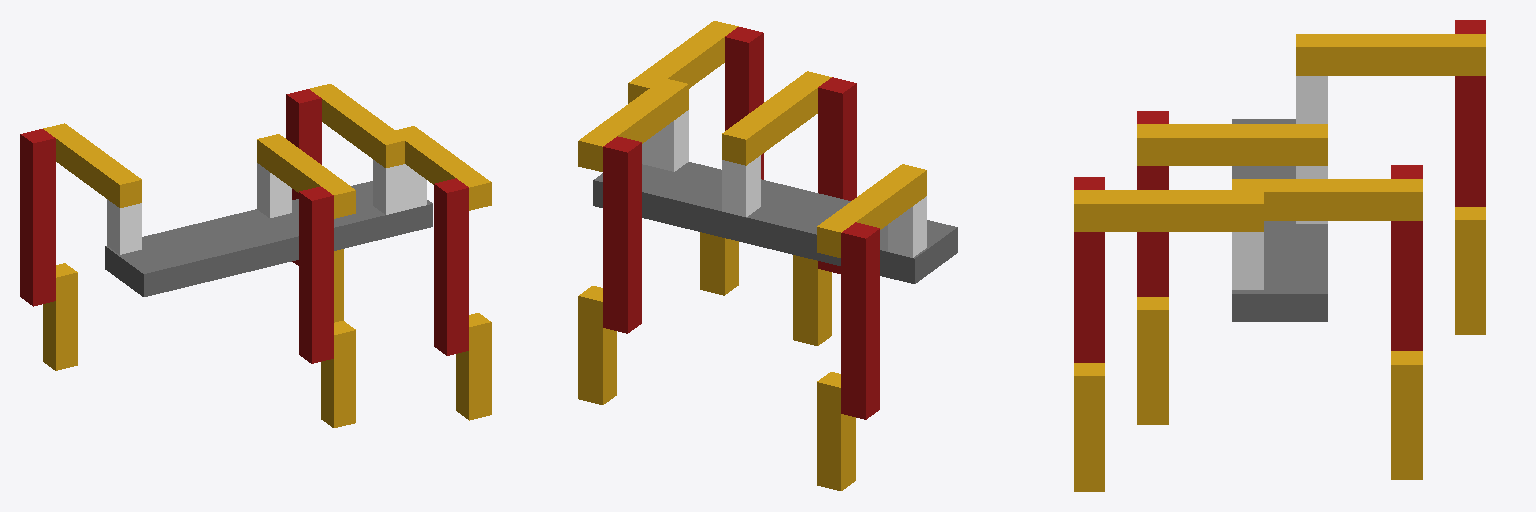
URDF robot description (v0):
<?xml version="1.0" encoding="utf-8"?>
<!-- =================================================================================== -->
<!-- |    This document was autogenerated by xacro from ../robots/v0variants/xacros/v0_4l_26.xacro | -->
<!-- |    EDITING THIS FILE BY HAND IS NOT RECOMMENDED                                 | -->
<!-- =================================================================================== -->
<robot name="v0">
  <material name="grey">
    <color rgba="0.5 0.5 0.5 1"/>
  </material>
  <material name="white">
    <color rgba="1 1 1 1"/>
  </material>
  <material name="yellow">
    <color rgba="0.91 0.7 0.14 1"/>
  </material>
  <material name="red">
    <color rgba="0.71 0.14 0.14 1"/>
  </material>
  <link name="body">
    <visual>
      <geometry>
        <box size="1.3 0.3 0.1"/>
      </geometry>
      <material name="grey"/>
      <origin rpy="0 0 0" xyz="0 0 0.7"/>
    </visual>
    <collision>
      <geometry>
        <box size="1.3 0.3 0.1"/>
      </geometry>
      <origin rpy="0 0 0" xyz="0 0 0.7"/>
    </collision>
    <inertial>
      <mass value="99.84"/>
      <inertia ixx="0.832" ixy="0.0" ixz="0.0" iyy="14.144" iyz="0.0" izz="14.8096"/>
    </inertial>
  </link>
  <link name="l1_segment_1">
    <visual>
      <geometry>
        <box size="0.1 0.1 0.2"/>
      </geometry>
      <material name="white"/>
      <origin rpy="0 0 0" xyz="0 0 0.1"/>
    </visual>
    <collision>
      <geometry>
        <box size="0.1 0.1 0.2"/>
      </geometry>
      <origin rpy="0 0 0" xyz="0 0 0.1"/>
    </collision>
    <inertial>
      <mass value="5.12"/>
      <inertia ixx="0.0213333333333" ixy="0.0" ixz="0.0" iyy="0.0213333333333" iyz="0.0" izz="0.00853333333333"/>
    </inertial>
  </link>
  <joint name="l1_base_to_joint_1" type="fixed">
    <parent link="body"/>
    <child link="l1_segment_1"/>
    <origin rpy="0 0 0" xyz="0.48739333523120976 -0.1 0.75"/>
  </joint>
  <link name="l1_segment_2_HIP">
    <visual>
      <geometry>
        <box size="0.1 0.6 0.1"/>
      </geometry>
      <material name="yellow"/>
      <origin rpy="0 0 0" xyz="0 0.25 0"/>
    </visual>
    <collision>
      <geometry>
        <box size="0.1 0.6 0.1"/>
      </geometry>
      <origin rpy="0 0 0" xyz="0 0.25 0"/>
    </collision>
    <inertial>
      <mass value="15.36"/>
      <inertia ixx="0.4736" ixy="0.0" ixz="0.0" iyy="0.0256" iyz="0.0" izz="0.4736"/>
    </inertial>
  </link>
  <joint name="l1_joint_1_to_2" type="revolute">
    <parent link="l1_segment_1"/>
    <child link="l1_segment_2_HIP"/>
    <origin rpy="0 0 0" xyz="0 0 0.25"/>
    <axis xyz="0.0 0.0 1.0"/>
    <limit effort="2048" lower="-1.2" upper="1.2" velocity="20"/>
  </joint>
  <link name="l1_segment_3_THIGH">
    <visual>
      <geometry>
        <box size="0.1 0.1 0.7"/>
      </geometry>
      <material name="red"/>
      <origin rpy="0 0 0" xyz="0 0 -0.3"/>
    </visual>
    <collision>
      <geometry>
        <box size="0.1 0.1 0.7"/>
      </geometry>
      <origin rpy="0 0 0" xyz="0 0 -0.3"/>
    </collision>
    <inertial>
      <mass value="17.92"/>
      <inertia ixx="0.746666666667" ixy="0.0" ixz="0.0" iyy="0.746666666667" iyz="0.0" izz="0.0298666666667"/>
    </inertial>
  </link>
  <joint name="l1_joint_2_to_3" type="revolute">
    <parent link="l1_segment_2_HIP"/>
    <child link="l1_segment_3_THIGH"/>
    <origin rpy="0 0 0" xyz="-0.1 0.5 0"/>
    <axis xyz="1.0 0.0 0.0"/>
    <limit effort="2048" lower="-0.2" upper="0.75" velocity="20"/>
  </joint>
  <link name="l1_segment_4_FOOT">
    <visual>
      <geometry>
        <box size="0.1 0.1 0.4"/>
      </geometry>
      <material name="yellow"/>
      <origin rpy="0 0 0" xyz="0 0 -0.2"/>
    </visual>
    <collision>
      <geometry>
        <box size="0.1 0.1 0.4"/>
      </geometry>
      <origin rpy="0 0 0" xyz="0 0 -0.2"/>
    </collision>
    <inertial>
      <mass value="10.24"/>
      <inertia ixx="0.145066666667" ixy="0.0" ixz="0.0" iyy="0.145066666667" iyz="0.0" izz="0.0170666666667"/>
    </inertial>
  </link>
  <joint name="l1_joint_3_to_4_FOOT" type="revolute">
    <parent link="l1_segment_3_THIGH"/>
    <child link="l1_segment_4_FOOT"/>
    <origin rpy="0 0 0" xyz="0.1 0 -0.55"/>
    <axis xyz="1.0 0.0 0.0"/>
    <limit effort="2048" lower="-0.2" upper="0.5" velocity="20"/>
  </joint>
  <link name="r2_segment_1">
    <visual>
      <geometry>
        <box size="0.1 0.1 0.2"/>
      </geometry>
      <material name="white"/>
      <origin rpy="0 0 0" xyz="0 0 0.1"/>
    </visual>
    <collision>
      <geometry>
        <box size="0.1 0.1 0.2"/>
      </geometry>
      <origin rpy="0 0 0" xyz="0 0 0.1"/>
    </collision>
    <inertial>
      <mass value="5.12"/>
      <inertia ixx="0.0213333333333" ixy="0.0" ixz="0.0" iyy="0.0213333333333" iyz="0.0" izz="0.00853333333333"/>
    </inertial>
  </link>
  <joint name="r2_base_to_joint_1" type="fixed">
    <parent link="body"/>
    <child link="r2_segment_1"/>
    <origin rpy="0 0 0" xyz="0.08087877123834808 0.1 0.75"/>
  </joint>
  <link name="r2_segment_2_HIP">
    <visual>
      <geometry>
        <box size="0.1 0.6 0.1"/>
      </geometry>
      <material name="yellow"/>
      <origin rpy="0 0 0" xyz="0 -0.25 0"/>
    </visual>
    <collision>
      <geometry>
        <box size="0.1 0.6 0.1"/>
      </geometry>
      <origin rpy="0 0 0" xyz="0 -0.25 0"/>
    </collision>
    <inertial>
      <mass value="15.36"/>
      <inertia ixx="0.4736" ixy="0.0" ixz="0.0" iyy="0.0256" iyz="0.0" izz="0.4736"/>
    </inertial>
  </link>
  <joint name="r2_joint_1_to_2" type="revolute">
    <parent link="r2_segment_1"/>
    <child link="r2_segment_2_HIP"/>
    <origin rpy="0 0 0" xyz="0 0 0.25"/>
    <axis xyz="0.0 0.0 1.0"/>
    <limit effort="2048" lower="-1.2" upper="1.2" velocity="20"/>
  </joint>
  <link name="r2_segment_3_THIGH">
    <visual>
      <geometry>
        <box size="0.1 0.1 0.7"/>
      </geometry>
      <material name="red"/>
      <origin rpy="0 0 0" xyz="0 0 -0.3"/>
    </visual>
    <collision>
      <geometry>
        <box size="0.1 0.1 0.7"/>
      </geometry>
      <origin rpy="0 0 0" xyz="0 0 -0.3"/>
    </collision>
    <inertial>
      <mass value="17.92"/>
      <inertia ixx="0.746666666667" ixy="0.0" ixz="0.0" iyy="0.746666666667" iyz="0.0" izz="0.0298666666667"/>
    </inertial>
  </link>
  <joint name="r2_joint_2_to_3" type="revolute">
    <parent link="r2_segment_2_HIP"/>
    <child link="r2_segment_3_THIGH"/>
    <origin rpy="0 0 0" xyz="-0.1 -0.5 0"/>
    <axis xyz="1.0 0.0 0.0"/>
    <limit effort="2048" lower="-0.75" upper="0.2" velocity="20"/>
  </joint>
  <link name="r2_segment_4_FOOT">
    <visual>
      <geometry>
        <box size="0.1 0.1 0.4"/>
      </geometry>
      <material name="yellow"/>
      <origin rpy="0 0 0" xyz="0 0 -0.2"/>
    </visual>
    <collision>
      <geometry>
        <box size="0.1 0.1 0.4"/>
      </geometry>
      <origin rpy="0 0 0" xyz="0 0 -0.2"/>
    </collision>
    <inertial>
      <mass value="10.24"/>
      <inertia ixx="0.145066666667" ixy="0.0" ixz="0.0" iyy="0.145066666667" iyz="0.0" izz="0.0170666666667"/>
    </inertial>
  </link>
  <joint name="r2_joint_3_to_4_FOOT" type="revolute">
    <parent link="r2_segment_3_THIGH"/>
    <child link="r2_segment_4_FOOT"/>
    <origin rpy="0 0 0" xyz="0.1 0 -0.55"/>
    <axis xyz="1.0 0.0 0.0"/>
    <limit effort="2048" lower="-0.5" upper="0.2" velocity="20"/>
  </joint>
  <link name="l3_segment_1">
    <visual>
      <geometry>
        <box size="0.1 0.1 0.2"/>
      </geometry>
      <material name="white"/>
      <origin rpy="0 0 0" xyz="0 0 0.1"/>
    </visual>
    <collision>
      <geometry>
        <box size="0.1 0.1 0.2"/>
      </geometry>
      <origin rpy="0 0 0" xyz="0 0 0.1"/>
    </collision>
    <inertial>
      <mass value="5.12"/>
      <inertia ixx="0.0213333333333" ixy="0.0" ixz="0.0" iyy="0.0213333333333" iyz="0.0" izz="0.00853333333333"/>
    </inertial>
  </link>
  <joint name="l3_base_to_joint_1" type="fixed">
    <parent link="body"/>
    <child link="l3_segment_1"/>
    <origin rpy="0 0 0" xyz="-0.5918573965170799 0.1 0.75"/>
  </joint>
  <link name="l3_segment_2_HIP">
    <visual>
      <geometry>
        <box size="0.1 0.6 0.1"/>
      </geometry>
      <material name="yellow"/>
      <origin rpy="0 0 0" xyz="0 0.25 0"/>
    </visual>
    <collision>
      <geometry>
        <box size="0.1 0.6 0.1"/>
      </geometry>
      <origin rpy="0 0 0" xyz="0 0.25 0"/>
    </collision>
    <inertial>
      <mass value="15.36"/>
      <inertia ixx="0.4736" ixy="0.0" ixz="0.0" iyy="0.0256" iyz="0.0" izz="0.4736"/>
    </inertial>
  </link>
  <joint name="l3_joint_1_to_2" type="revolute">
    <parent link="l3_segment_1"/>
    <child link="l3_segment_2_HIP"/>
    <origin rpy="0 0 0" xyz="0 0 0.25"/>
    <axis xyz="0.0 0.0 1.0"/>
    <limit effort="2048" lower="-1.2" upper="1.2" velocity="20"/>
  </joint>
  <link name="l3_segment_3_THIGH">
    <visual>
      <geometry>
        <box size="0.1 0.1 0.7"/>
      </geometry>
      <material name="red"/>
      <origin rpy="0 0 0" xyz="0 0 -0.3"/>
    </visual>
    <collision>
      <geometry>
        <box size="0.1 0.1 0.7"/>
      </geometry>
      <origin rpy="0 0 0" xyz="0 0 -0.3"/>
    </collision>
    <inertial>
      <mass value="17.92"/>
      <inertia ixx="0.746666666667" ixy="0.0" ixz="0.0" iyy="0.746666666667" iyz="0.0" izz="0.0298666666667"/>
    </inertial>
  </link>
  <joint name="l3_joint_2_to_3" type="revolute">
    <parent link="l3_segment_2_HIP"/>
    <child link="l3_segment_3_THIGH"/>
    <origin rpy="0 0 0" xyz="-0.1 0.5 0"/>
    <axis xyz="1.0 0.0 0.0"/>
    <limit effort="2048" lower="-0.2" upper="0.75" velocity="20"/>
  </joint>
  <link name="l3_segment_4_FOOT">
    <visual>
      <geometry>
        <box size="0.1 0.1 0.4"/>
      </geometry>
      <material name="yellow"/>
      <origin rpy="0 0 0" xyz="0 0 -0.2"/>
    </visual>
    <collision>
      <geometry>
        <box size="0.1 0.1 0.4"/>
      </geometry>
      <origin rpy="0 0 0" xyz="0 0 -0.2"/>
    </collision>
    <inertial>
      <mass value="10.24"/>
      <inertia ixx="0.145066666667" ixy="0.0" ixz="0.0" iyy="0.145066666667" iyz="0.0" izz="0.0170666666667"/>
    </inertial>
  </link>
  <joint name="l3_joint_3_to_4_FOOT" type="revolute">
    <parent link="l3_segment_3_THIGH"/>
    <child link="l3_segment_4_FOOT"/>
    <origin rpy="0 0 0" xyz="0.1 0 -0.55"/>
    <axis xyz="1.0 0.0 0.0"/>
    <limit effort="2048" lower="-0.2" upper="0.5" velocity="20"/>
  </joint>
  <link name="r4_segment_1">
    <visual>
      <geometry>
        <box size="0.1 0.1 0.2"/>
      </geometry>
      <material name="white"/>
      <origin rpy="0 0 0" xyz="0 0 0.1"/>
    </visual>
    <collision>
      <geometry>
        <box size="0.1 0.1 0.2"/>
      </geometry>
      <origin rpy="0 0 0" xyz="0 0 0.1"/>
    </collision>
    <inertial>
      <mass value="5.12"/>
      <inertia ixx="0.0213333333333" ixy="0.0" ixz="0.0" iyy="0.0213333333333" iyz="0.0" izz="0.00853333333333"/>
    </inertial>
  </link>
  <joint name="r4_base_to_joint_1" type="fixed">
    <parent link="body"/>
    <child link="r4_segment_1"/>
    <origin rpy="0 0 0" xyz="0.5735198803531637 -0.1 0.75"/>
  </joint>
  <link name="r4_segment_2_HIP">
    <visual>
      <geometry>
        <box size="0.1 0.6 0.1"/>
      </geometry>
      <material name="yellow"/>
      <origin rpy="0 0 0" xyz="0 -0.25 0"/>
    </visual>
    <collision>
      <geometry>
        <box size="0.1 0.6 0.1"/>
      </geometry>
      <origin rpy="0 0 0" xyz="0 -0.25 0"/>
    </collision>
    <inertial>
      <mass value="15.36"/>
      <inertia ixx="0.4736" ixy="0.0" ixz="0.0" iyy="0.0256" iyz="0.0" izz="0.4736"/>
    </inertial>
  </link>
  <joint name="r4_joint_1_to_2" type="revolute">
    <parent link="r4_segment_1"/>
    <child link="r4_segment_2_HIP"/>
    <origin rpy="0 0 0" xyz="0 0 0.25"/>
    <axis xyz="0.0 0.0 1.0"/>
    <limit effort="2048" lower="-1.2" upper="1.2" velocity="20"/>
  </joint>
  <link name="r4_segment_3_THIGH">
    <visual>
      <geometry>
        <box size="0.1 0.1 0.7"/>
      </geometry>
      <material name="red"/>
      <origin rpy="0 0 0" xyz="0 0 -0.3"/>
    </visual>
    <collision>
      <geometry>
        <box size="0.1 0.1 0.7"/>
      </geometry>
      <origin rpy="0 0 0" xyz="0 0 -0.3"/>
    </collision>
    <inertial>
      <mass value="17.92"/>
      <inertia ixx="0.746666666667" ixy="0.0" ixz="0.0" iyy="0.746666666667" iyz="0.0" izz="0.0298666666667"/>
    </inertial>
  </link>
  <joint name="r4_joint_2_to_3" type="revolute">
    <parent link="r4_segment_2_HIP"/>
    <child link="r4_segment_3_THIGH"/>
    <origin rpy="0 0 0" xyz="-0.1 -0.5 0"/>
    <axis xyz="1.0 0.0 0.0"/>
    <limit effort="2048" lower="-0.75" upper="0.2" velocity="20"/>
  </joint>
  <link name="r4_segment_4_FOOT">
    <visual>
      <geometry>
        <box size="0.1 0.1 0.4"/>
      </geometry>
      <material name="yellow"/>
      <origin rpy="0 0 0" xyz="0 0 -0.2"/>
    </visual>
    <collision>
      <geometry>
        <box size="0.1 0.1 0.4"/>
      </geometry>
      <origin rpy="0 0 0" xyz="0 0 -0.2"/>
    </collision>
    <inertial>
      <mass value="10.24"/>
      <inertia ixx="0.145066666667" ixy="0.0" ixz="0.0" iyy="0.145066666667" iyz="0.0" izz="0.0170666666667"/>
    </inertial>
  </link>
  <joint name="r4_joint_3_to_4_FOOT" type="revolute">
    <parent link="r4_segment_3_THIGH"/>
    <child link="r4_segment_4_FOOT"/>
    <origin rpy="0 0 0" xyz="0.1 0 -0.55"/>
    <axis xyz="1.0 0.0 0.0"/>
    <limit effort="2048" lower="-0.5" upper="0.2" velocity="20"/>
  </joint>
</robot>

--- What the picture shows (computed from the rendered views, not written in the file) ---
Views: 3 orthographic renders of the robot side by side, from view 1: azimuth 30°, elevation 25°; view 2: azimuth 150°, elevation 25°; view 3: azimuth 270°, elevation 25°.
Model v0 with 17 links and 16 joints (12 revolute, 4 fixed), rooted at body, posed all joints at 0.
Links seen in each view (by area): view 1: body, l3_segment_3_THIGH, r4_segment_3_THIGH, r2_segment_3_THIGH, l3_segment_2_HIP, l1_segment_2_HIP, r2_segment_2_HIP, r4_segment_4_FOOT, r4_segment_2_HIP, l3_segment_4_FOOT, r2_segment_4_FOOT, l1_segment_3_THIGH (+5 smaller); view 2: body, l3_segment_3_THIGH, l1_segment_3_THIGH, r2_segment_3_THIGH, r2_segment_2_HIP, l1_segment_2_HIP, l3_segment_2_HIP, l1_segment_4_FOOT, l3_segment_4_FOOT, r4_segment_3_THIGH, r4_segment_2_HIP, r2_segment_4_FOOT (+4 smaller); view 3: body, r2_segment_2_HIP, l3_segment_2_HIP, r4_segment_2_HIP, l1_segment_2_HIP, l1_segment_3_THIGH, l3_segment_3_THIGH, r4_segment_3_THIGH, l1_segment_4_FOOT, r2_segment_4_FOOT, r4_segment_4_FOOT, l3_segment_4_FOOT (+3 smaller).
Link boxes in pixels (x1,y1,x2,y2): body: (105,181,432,296); l3_segment_3_THIGH: (20,129,55,306); r4_segment_3_THIGH: (434,178,468,355); r2_segment_3_THIGH: (299,186,333,363); l3_segment_2_HIP: (43,123,141,207); l1_segment_2_HIP: (310,84,404,167); r2_segment_2_HIP: (257,134,355,218); r4_segment_4_FOOT: (456,313,491,420); r4_segment_2_HIP: (393,126,491,210); l3_segment_4_FOOT: (43,263,77,370); r2_segment_4_FOOT: (321,321,355,427); l1_segment_3_THIGH: (286,89,321,265); body: (593,162,957,283); l3_segment_3_THIGH: (841,222,879,419); l1_segment_3_THIGH: (603,136,641,333); r2_segment_3_THIGH: (818,77,856,273); r2_segment_2_HIP: (722,71,831,165); l1_segment_2_HIP: (578,78,688,171); l3_segment_2_HIP: (817,164,926,257); l1_segment_4_FOOT: (578,286,616,404); l3_segment_4_FOOT: (817,372,855,490); r4_segment_3_THIGH: (725,27,763,179); r4_segment_2_HIP: (628,21,738,103); r2_segment_4_FOOT: (793,255,831,345); body: (1232,119,1327,321); r2_segment_2_HIP: (1137,124,1327,165); l3_segment_2_HIP: (1296,34,1485,75); r4_segment_2_HIP: (1074,190,1263,231); l1_segment_2_HIP: (1232,179,1422,220); l1_segment_3_THIGH: (1391,165,1422,350); l3_segment_3_THIGH: (1455,20,1485,206); r4_segment_3_THIGH: (1074,177,1104,362); l1_segment_4_FOOT: (1391,351,1422,479); r2_segment_4_FOOT: (1137,297,1168,424); r4_segment_4_FOOT: (1074,363,1104,491); l3_segment_4_FOOT: (1455,207,1485,334).
Bounding box of the posed robot: 1.39 × 1.3 × 1 m (x, y, z).
Geometry: primitives only (box / cylinder / sphere), no mesh files.